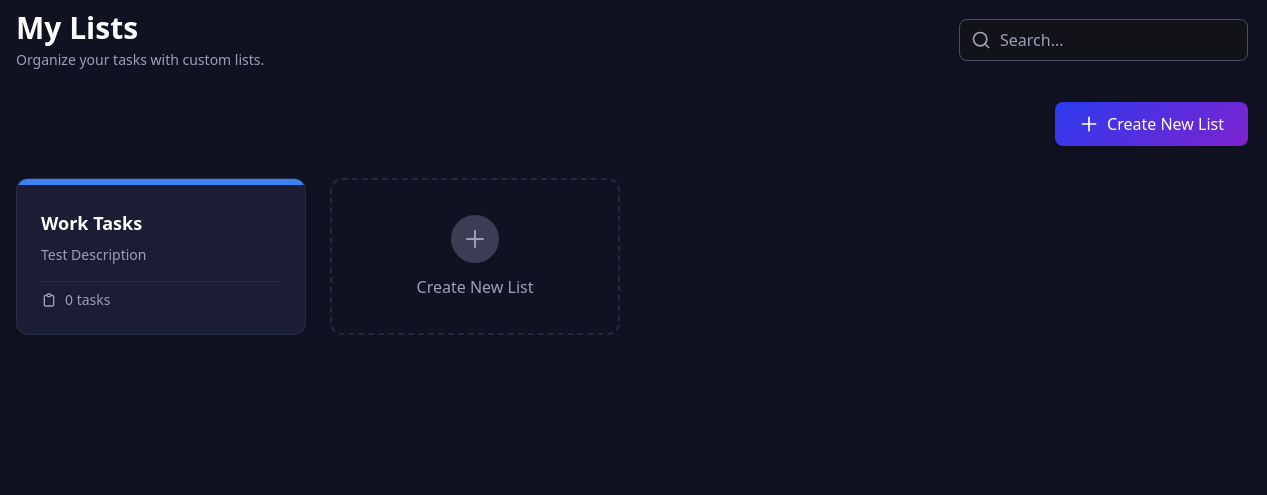
Test: ListsContainer - Integration Tests › should display empty state when no lists match search
The image size is (1267, 495).
# Search for non-existent list
In the field with placeholder "Search...": (1104, 40) [959,19,1248,61], type "nonexistent"
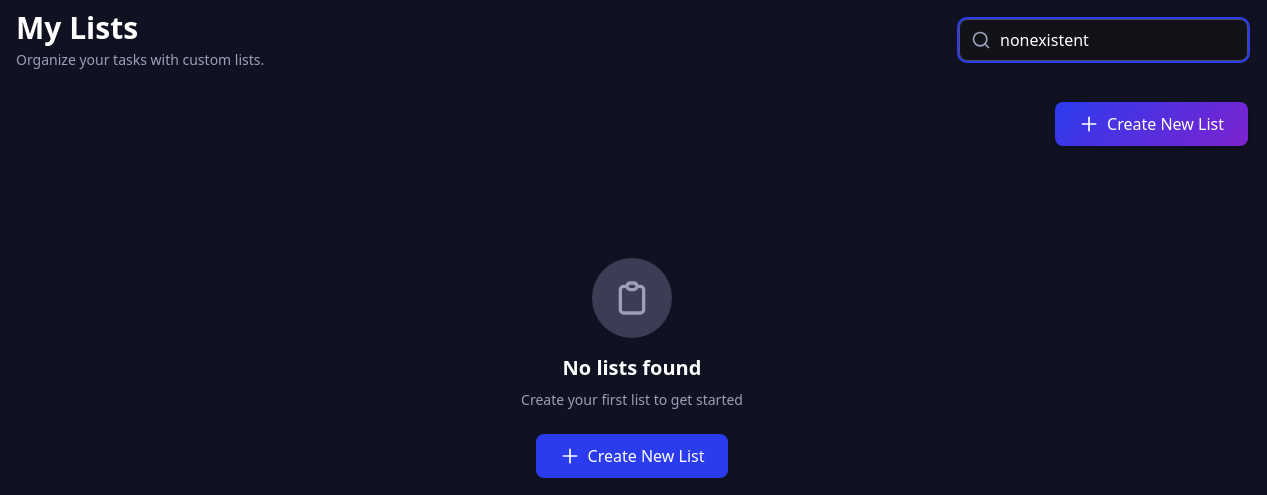
Result: the heading "No lists found" is shown at [563,354,702,382]
